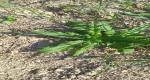osot: (31, 20, 150, 57)
